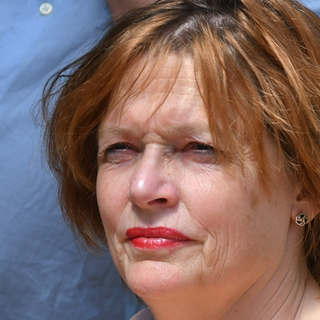eye: (90, 135, 150, 166), (176, 134, 229, 169)
